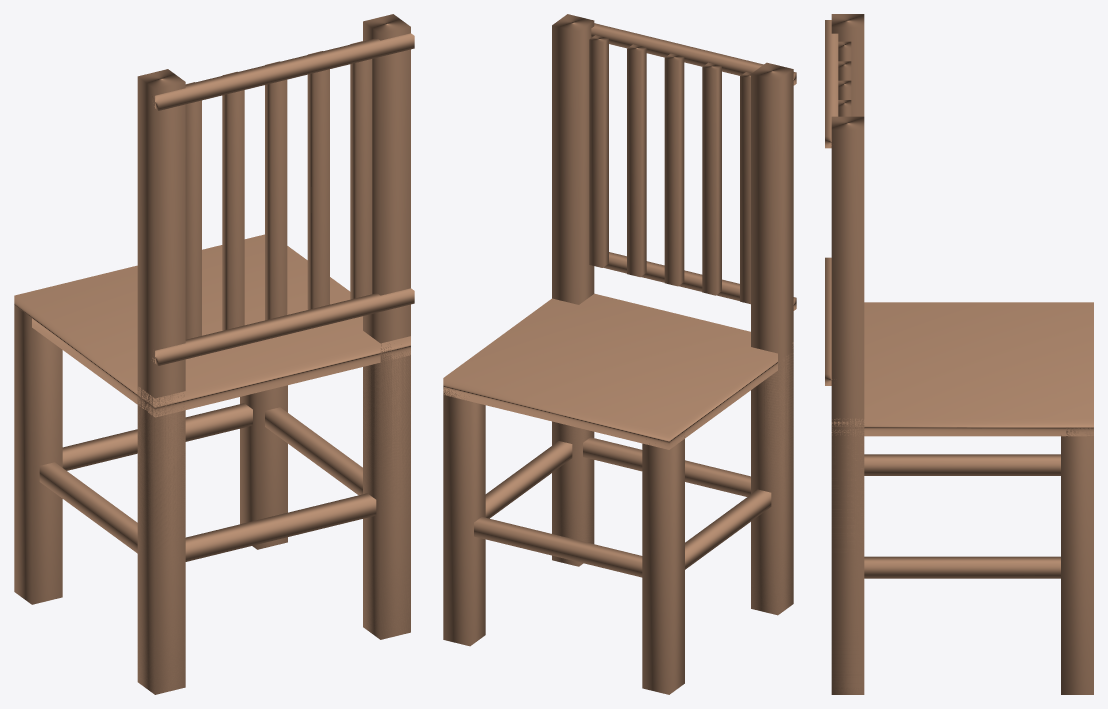
The picture shows the model from 3 angles, left to right: view 1: azimuth 30°, elevation 25°; view 2: azimuth 150°, elevation 25°; view 3: azimuth 270°, elevation 25°; orthographic projection. The views are drawn at different scales.
Visible parts, largest first — view 1: Seat, Cube.004, Cube.005, Leg_3, Leg_1, Leg_2, Leg_0, Cube.011, Cube.008, Cube.009, Cube.010, Bottom_Back_Rail (+6 smaller); view 2: Seat, Cube.004, Cube.005, Leg_1, Leg_0, Leg_3, Cube.009, Cube.010, Cube.008, Cube.011, Leg_2, Cube (+6 smaller); view 3: Seat, Cube.005, Leg_0, Cube.002, Cube.003, Leg_2, Cube.004, Cube.006, Bottom_Back_Rail.
Boxes of the visible parts, <box> form: Seat: <box>14,234,410,417</box>; Cube.004: <box>137,69,185,693</box>; Cube.005: <box>363,14,410,638</box>; Leg_3: <box>137,397,185,694</box>; Leg_1: <box>14,305,62,604</box>; Leg_2: <box>363,353,410,639</box>; Leg_0: <box>240,385,287,549</box>; Cube.011: <box>350,40,372,299</box>; Cube.008: <box>222,71,244,330</box>; Cube.009: <box>265,61,287,320</box>; Cube.010: <box>307,51,329,309</box>; Bottom_Back_Rail: <box>152,288,414,365</box>; Seat: <box>443,293,793,449</box>; Cube.004: <box>751,62,793,614</box>; Cube.005: <box>552,14,594,566</box>; Leg_1: <box>642,431,684,694</box>; Leg_0: <box>443,387,485,646</box>; Leg_3: <box>751,351,793,615</box>; Cube.009: <box>664,53,684,286</box>; Cube.010: <box>627,44,646,277</box>; Cube.008: <box>702,62,721,295</box>; Cube.011: <box>589,35,608,267</box>; Leg_2: <box>552,421,594,566</box>; Cube: <box>474,517,642,577</box>; Seat: <box>831,302,1093,436</box>; Cube.005: <box>831,116,864,694</box>; Leg_0: <box>1061,427,1093,694</box>; Cube.002: <box>864,556,1060,578</box>; Cube.003: <box>864,454,1060,475</box>; Leg_2: <box>831,427,864,694</box>; Cube.004: <box>831,14,864,116</box>; Cube.006: <box>825,20,838,148</box>; Bottom_Back_Rail: <box>825,257,831,385</box>.
Bounding box in the file's own units: 0.42 × 0.95 × 0.41.
